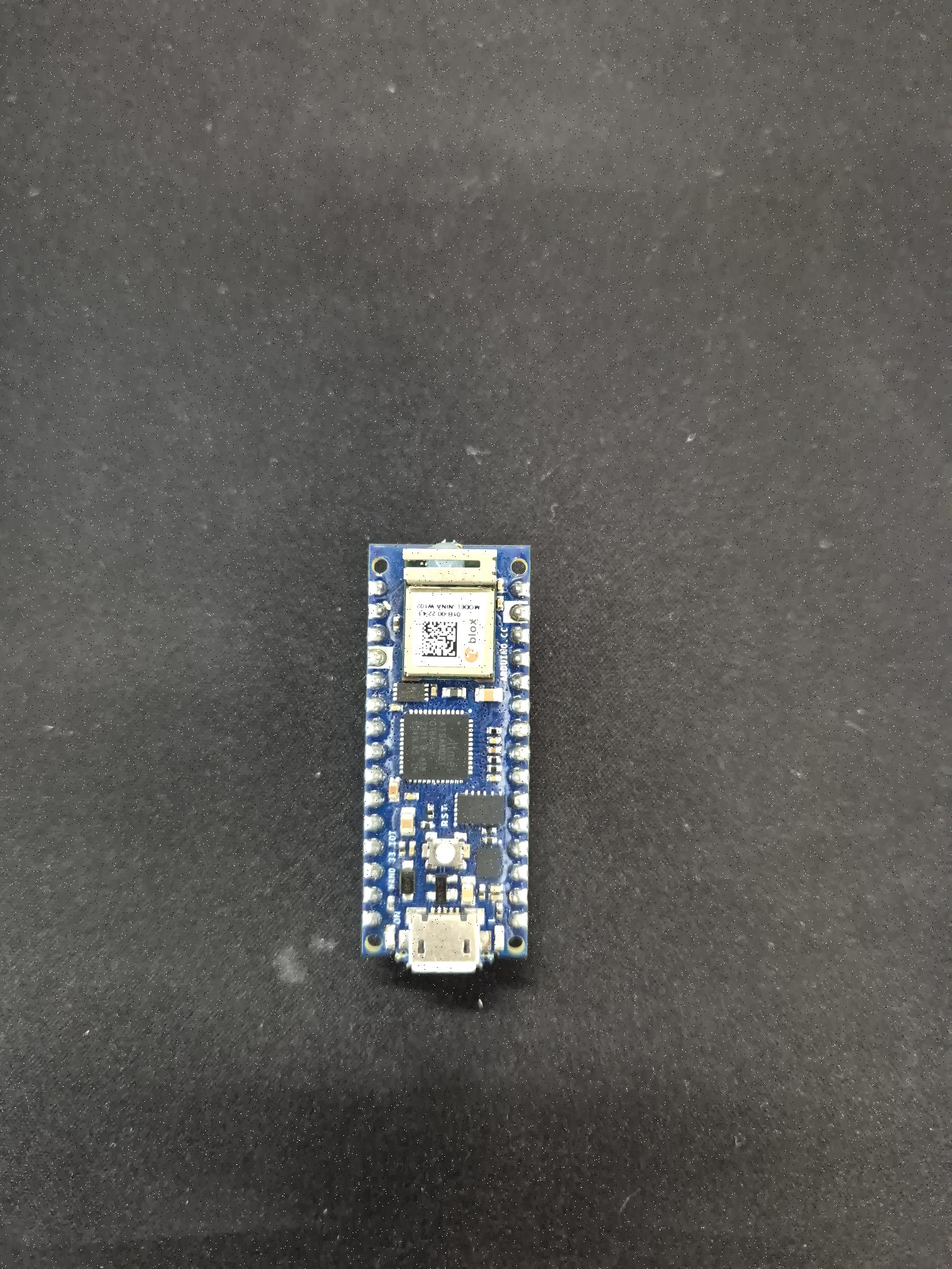arduino-nano-iot-33: (363, 539, 532, 966)
